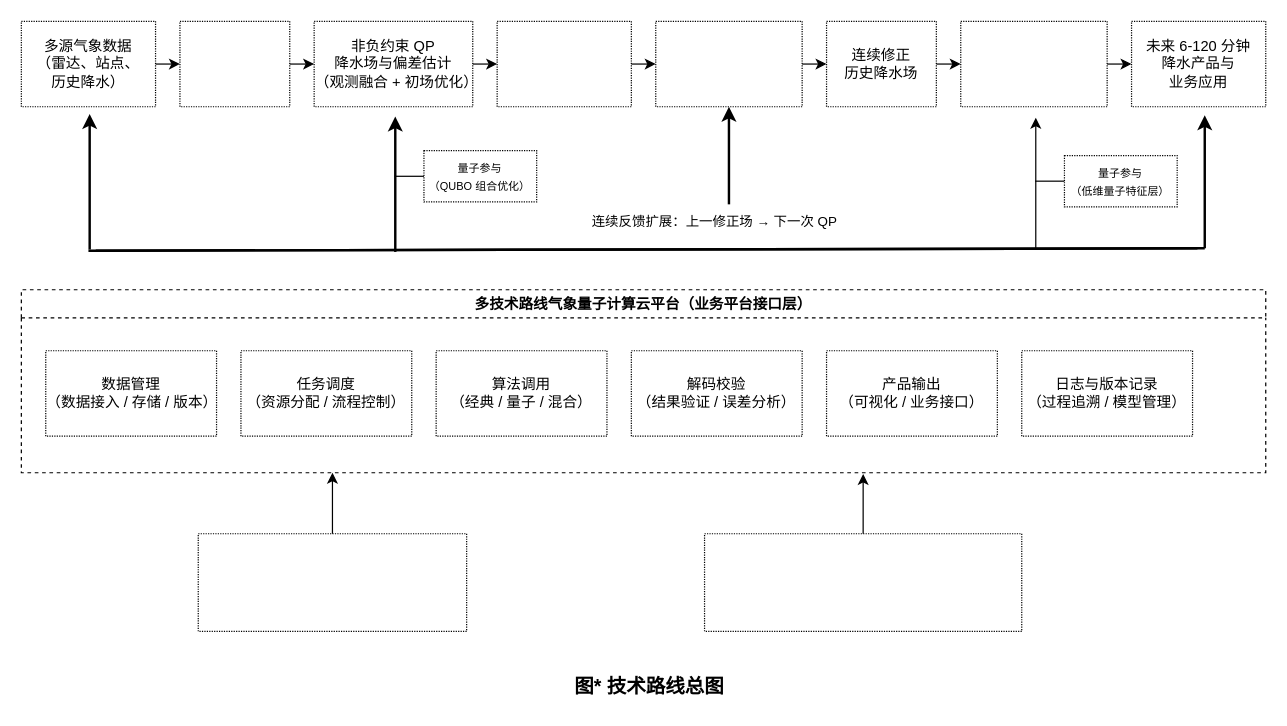
Image size: 1287x726. Some labels were removed from this diagram. Each missing label, with the centre of its shape:
"候选场集合 主方案 / 保守方案 无偏差 / 站点创新" goes at (x=563, y=63).
"区域候选组合 QUBO 拟合与邻域兼容 选择约束" goes at (x=728, y=63).
"数据质控 与时空配准" goes at (x=234, y=63).
"混合量子-经典 短临预测 （Earthformer + 低维量子特征层）" goes at (x=1033, y=63).
"经典 CPU/GPU 计算资源 QP、预测主干、解码融合 （承担大部分计算任务）" goes at (x=332, y=582).
"量子 / 伊辛求解资源 QUBO 离散组合、低维量子特征 （超导、离子阱、相干光伊辛等后端适配）" goes at (x=862, y=582).
